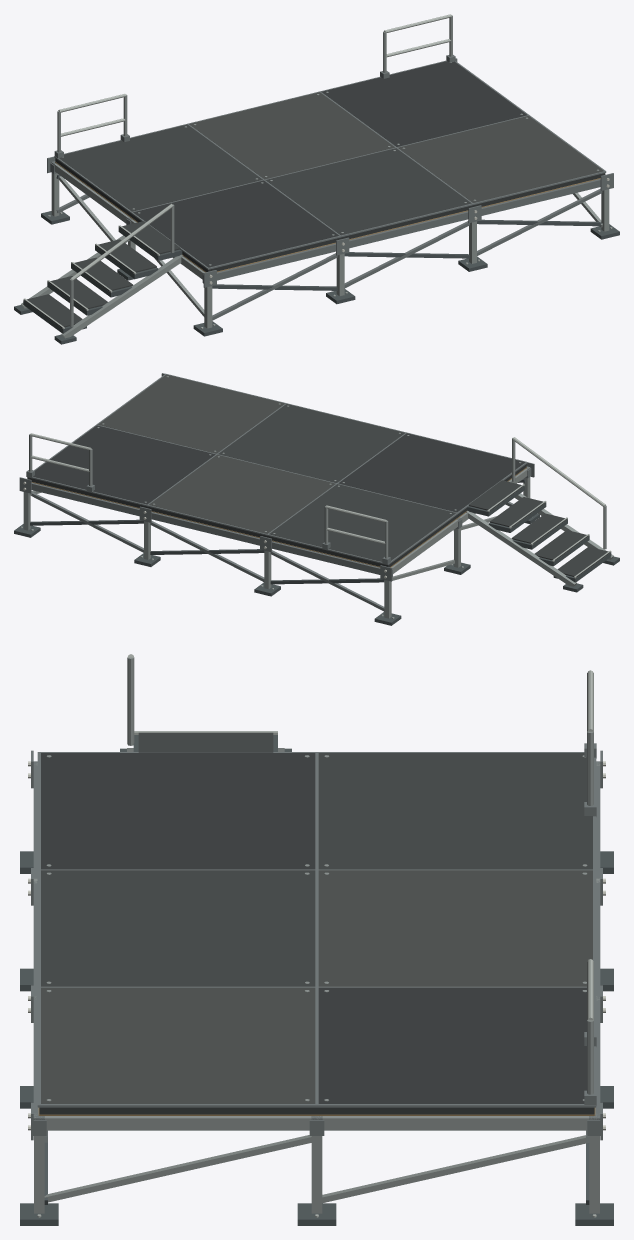
File: lwf_modular_riser_stage_v1.glb
3 views of the same model, one above another, from view 1: azimuth 30°, elevation 25°; view 2: azimuth 150°, elevation 25°; view 3: azimuth 270°, elevation 25° (orthographic). The views are drawn at different scales.
Visible parts, largest first — view 1: RiserDeck, RiserSteelFrame, RiserAccess, RiserCornerRails; view 2: RiserDeck, RiserSteelFrame, RiserAccess, RiserCornerRails; view 3: RiserDeck, RiserSteelFrame, RiserAccess, RiserCornerRails.
Boxes of the visible parts, x1,y1,x2,y2 form: RiserDeck: (54, 60, 606, 272); RiserSteelFrame: (41, 58, 619, 336); RiserAccess: (14, 203, 183, 344); RiserCornerRails: (54, 14, 455, 158); RiserDeck: (26, 374, 527, 567); RiserSteelFrame: (14, 373, 539, 625); RiserAccess: (466, 437, 619, 592); RiserCornerRails: (26, 433, 390, 564); RiserDeck: (37, 752, 596, 1115); RiserSteelFrame: (20, 750, 613, 1225); RiserAccess: (120, 654, 291, 752); RiserCornerRails: (584, 670, 596, 1105).
Bounding box in the file's own units: 8.02 × 1.6 × 4.28.
1 material, 1 textured.
